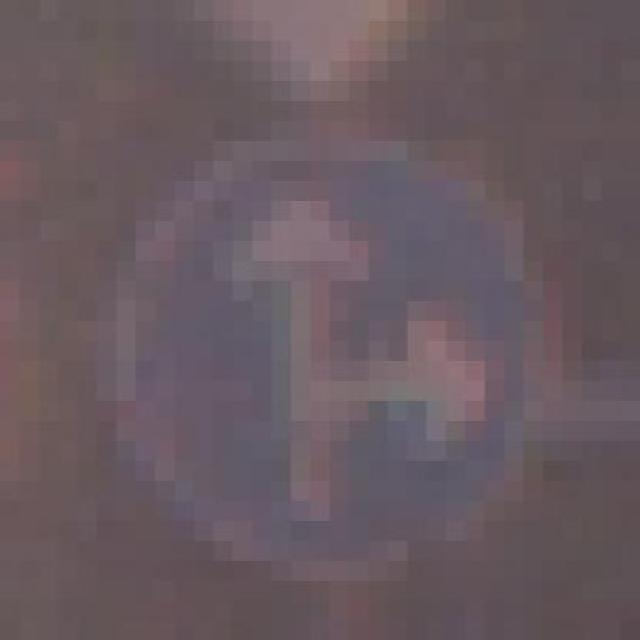Go Straight or Turn Right: (78, 120, 582, 580)
